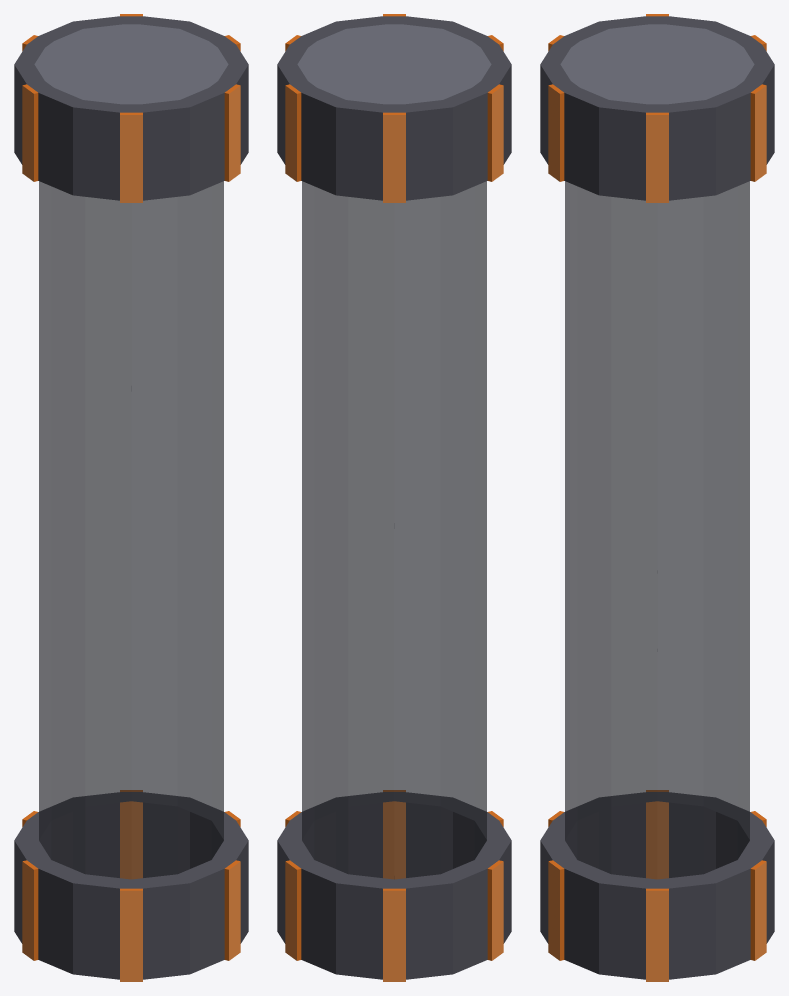
The picture shows the model from 3 angles, left to right: view 1: azimuth 30°, elevation 25°; view 2: azimuth 150°, elevation 25°; view 3: azimuth 270°, elevation 25°; orthographic projection.
Visible parts, largest first — view 1: Tube_01; view 2: Tube_01; view 3: Tube_01.
Boxes of the visible parts, x1,y1,x2,y2 form: Tube_01: (14,14,248,981); Tube_01: (277,14,511,981); Tube_01: (540,14,774,981).
Size of what is drawn, in the model's own units: 0.499 by 2 by 0.49.
2 materials, 2 textured.
